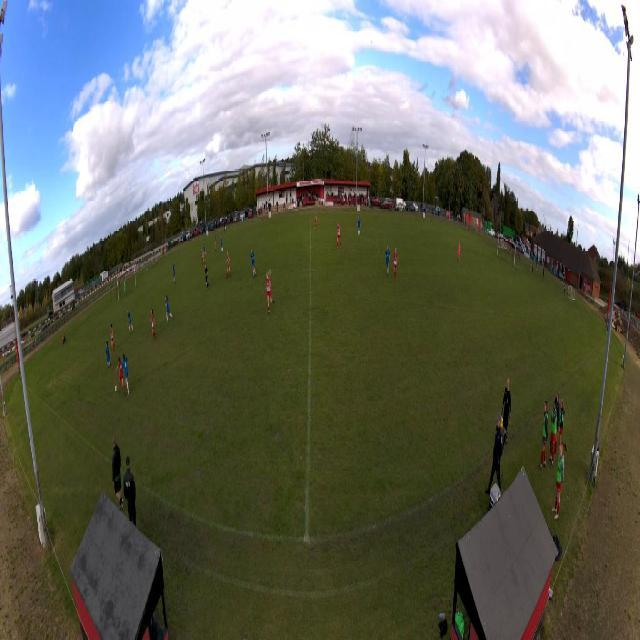player: (265, 268, 275, 317), (392, 246, 398, 282), (457, 240, 461, 264)
